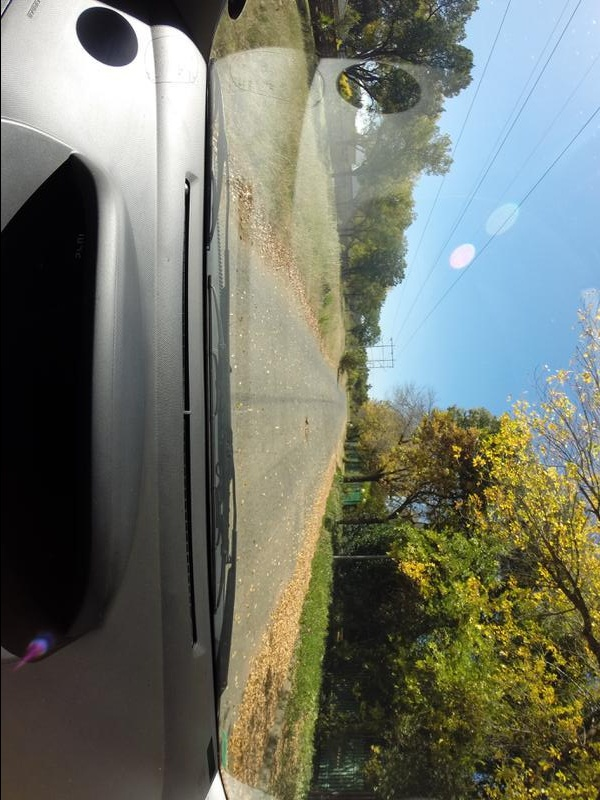pothole: (300, 419, 308, 448)
